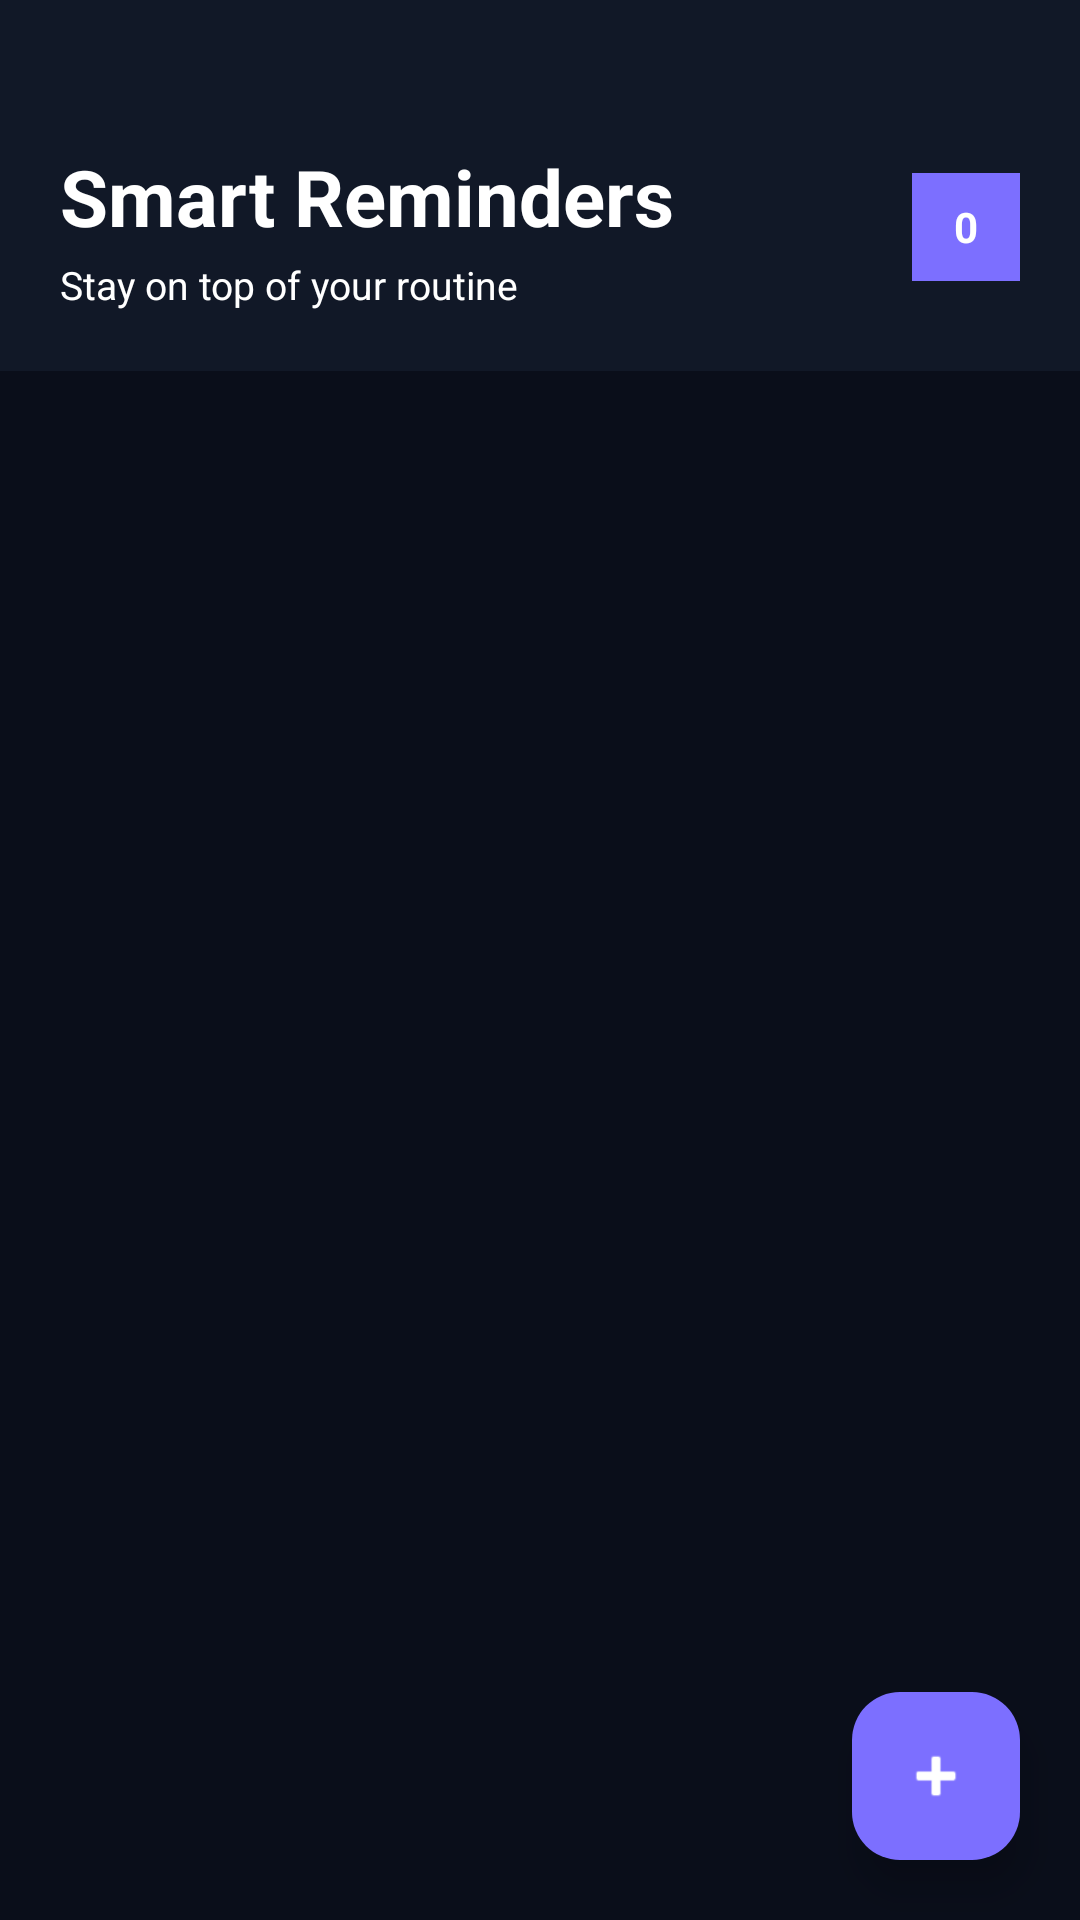

Where to tap for icons on this 1080 x 1920 app screen, as (x=x, y=y):
Add reminder: (x=936, y=1776)
